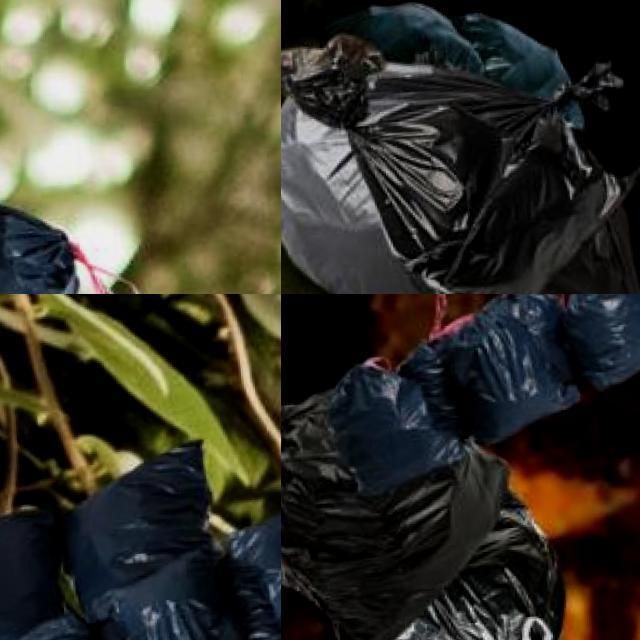waste: (299, 39, 640, 294), (281, 83, 640, 294), (281, 348, 539, 640), (409, 294, 587, 441), (85, 542, 251, 640), (0, 191, 90, 294), (553, 294, 640, 399), (0, 512, 61, 640), (229, 490, 281, 640)
